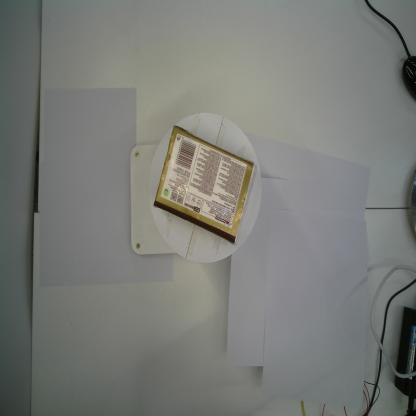Tissue: (152, 125, 255, 245)
